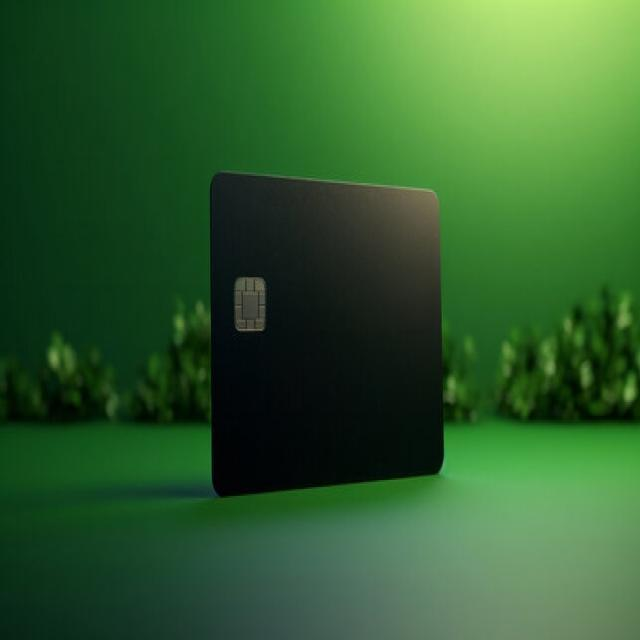payment_card: (208, 169, 444, 497)
